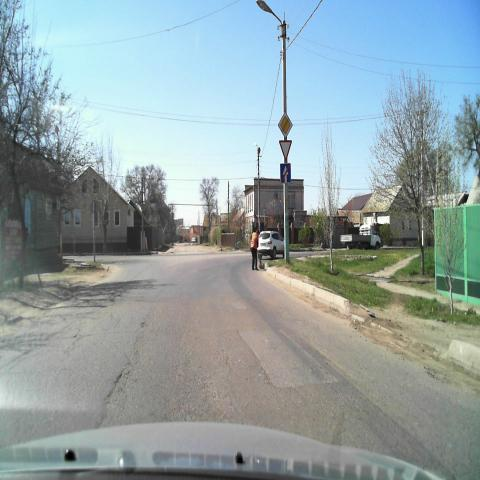5_6: (281, 163, 290, 182)
